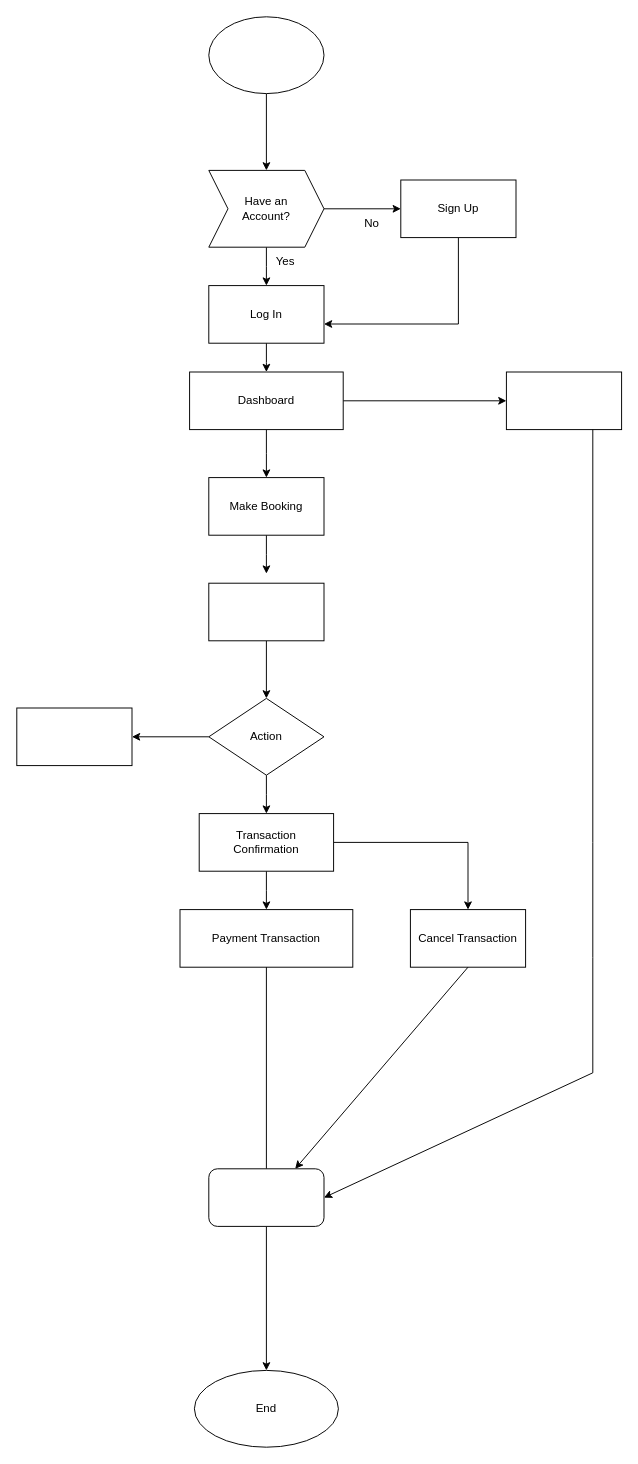
This 638x1464 diagram has some shape labels left out. Here are the shapes that lost their labels. From the top down, the centre of each, then its label:
point (266, 55): Start
point (563, 400): Check booking history
point (266, 611): View bookings
point (74, 736): Delete Request
point (266, 1197): Log out
